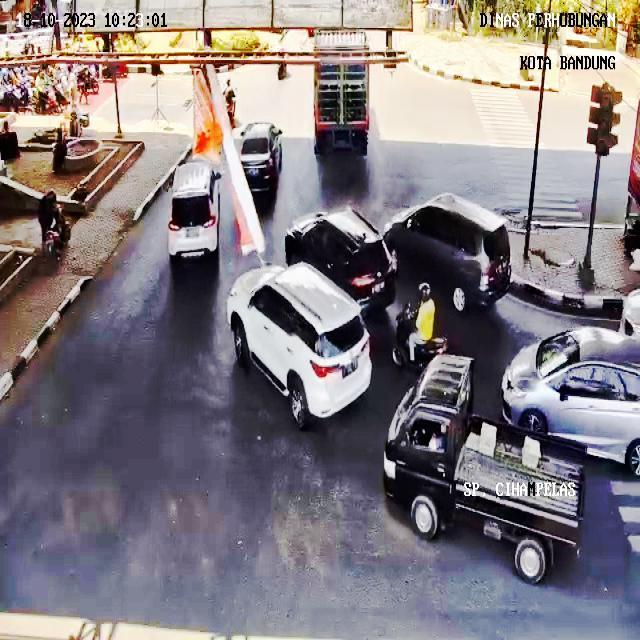car: (228, 264, 370, 427), (502, 328, 640, 473), (384, 192, 511, 311), (285, 206, 396, 311), (168, 161, 221, 258), (240, 122, 282, 191)
lorry: (384, 355, 585, 582), (315, 64, 369, 154), (315, 31, 367, 51)
motorcyclist: (391, 282, 448, 368)
